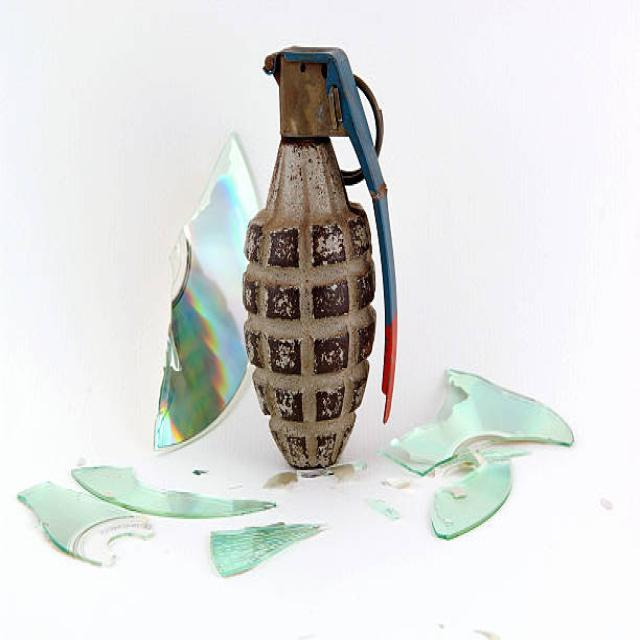grenade: (239, 39, 405, 478)
